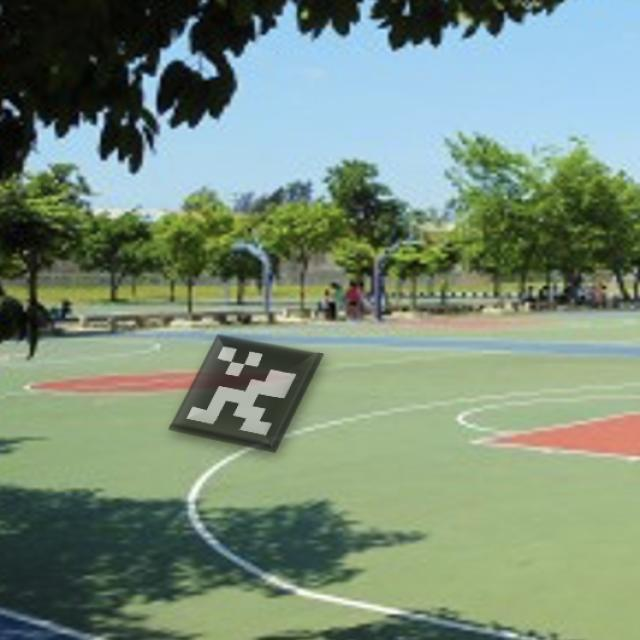marker: (163, 322, 330, 461)
